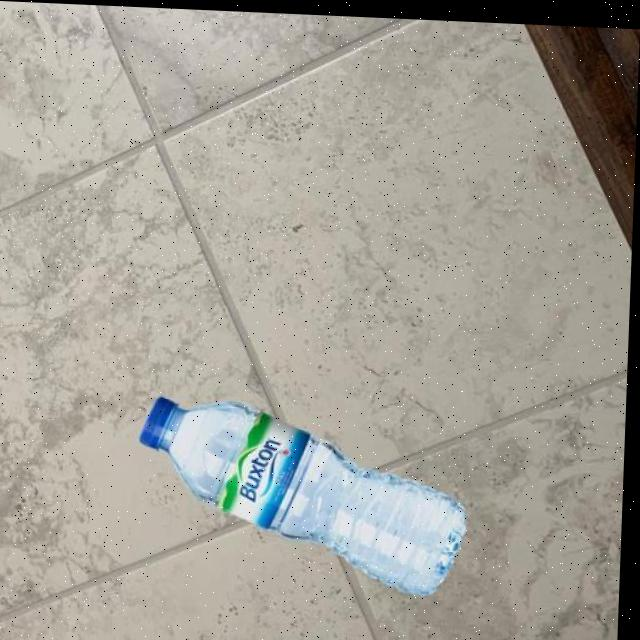bottle: (136, 393, 474, 594)
